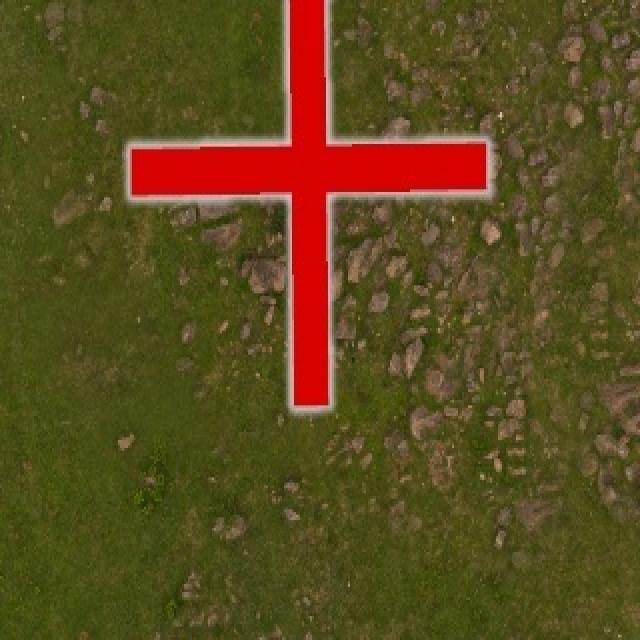x_marker: (129, 0, 487, 408)
